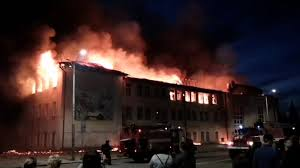fire: (24, 43, 225, 104)
